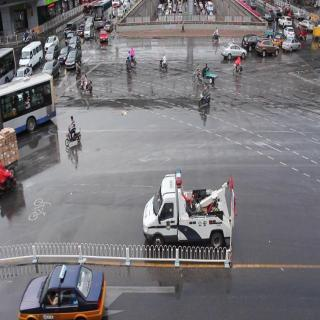Car: (143, 174, 233, 240), (17, 262, 105, 320), (0, 75, 52, 131), (224, 39, 247, 68), (259, 41, 279, 57), (98, 25, 111, 47), (68, 45, 80, 68)
